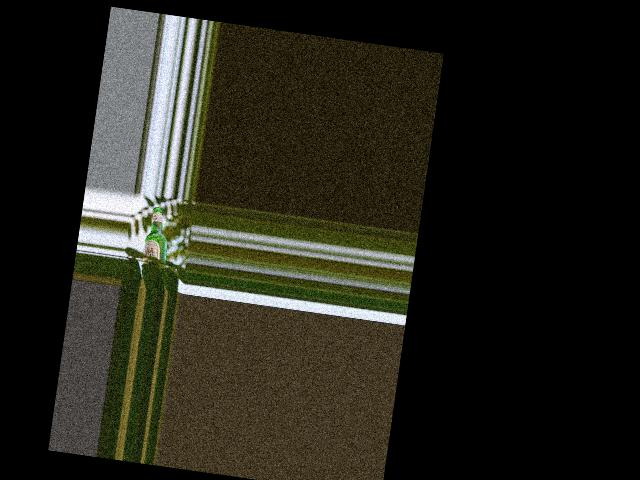beer: (141, 205, 172, 268)
